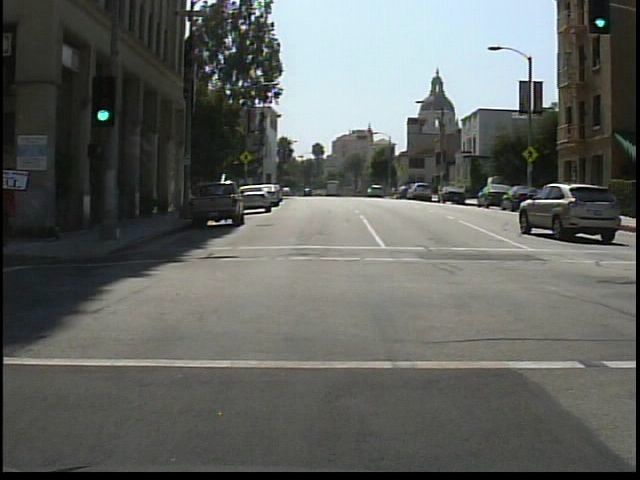person: (2, 160, 15, 247)
